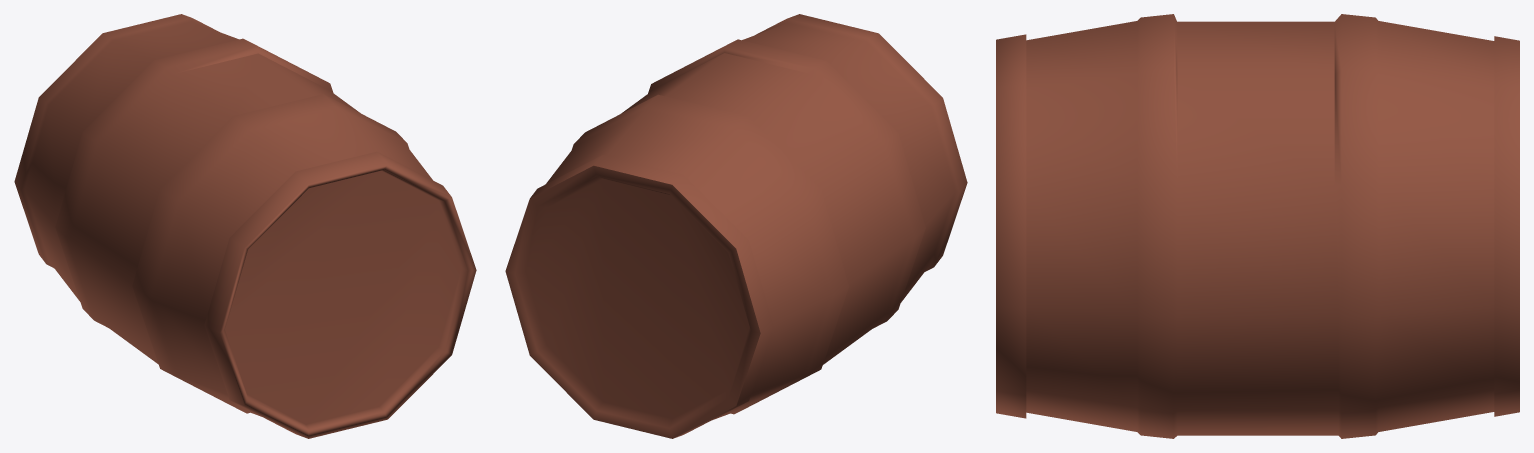
Rendered from cellarBarrel.fbx.
3 renders of one model, left to right at view 1: azimuth 30°, elevation 25°; view 2: azimuth 150°, elevation 25°; view 3: azimuth 270°, elevation 25°, orthographic. The views are drawn at different scales.
Parts seen in each view (by area): view 1: CellarBarrel; view 2: CellarBarrel; view 3: CellarBarrel.
Boxes of the visible parts, x1,y1,x2,y2 form: CellarBarrel: (14, 14, 476, 438); CellarBarrel: (505, 14, 967, 438); CellarBarrel: (996, 14, 1519, 438).
Bounding box in the file's own units: 1029 × 979 × 1259.
